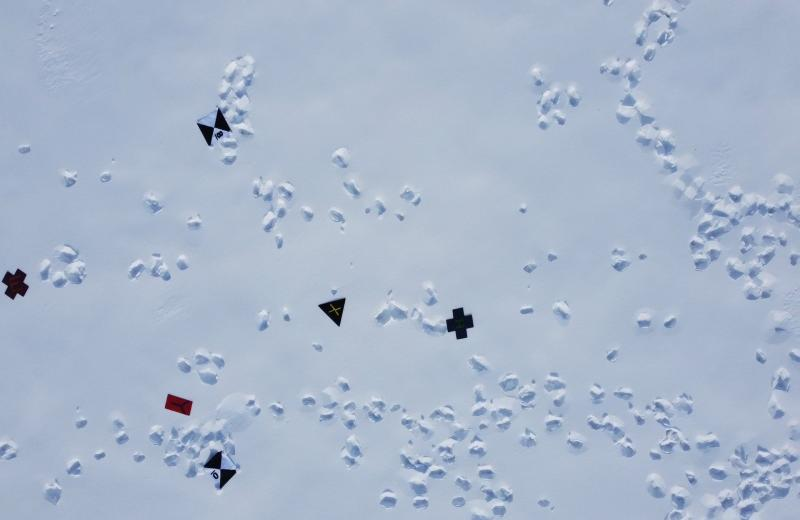Cross: (444, 304, 478, 342), (0, 266, 32, 302)
Rectangle: (162, 392, 192, 419)
Triangle: (318, 295, 351, 332)
